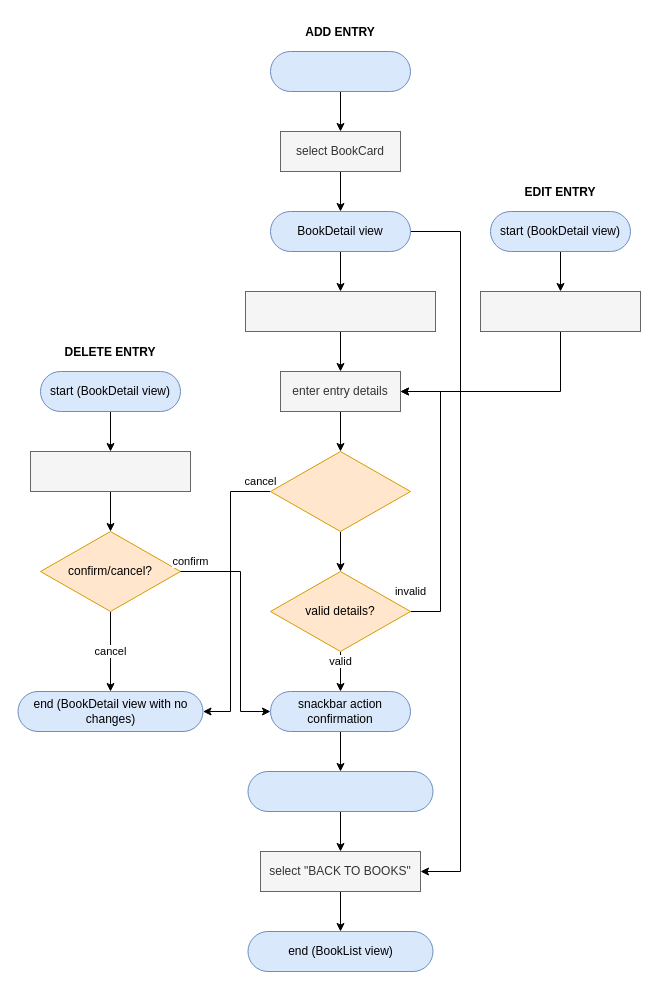
Image size: 658x989. Some labels were removed from this diagram. Each missing label, with the centre of its shape:
BookDetail view with changes: [340,791]
select "+ ADD ENTRY" button: [340,311]
select delete entry button: [110,471]
select edit entry button: [560,311]
start (BookList view): [340,71]
submit/cancel?: [340,491]
